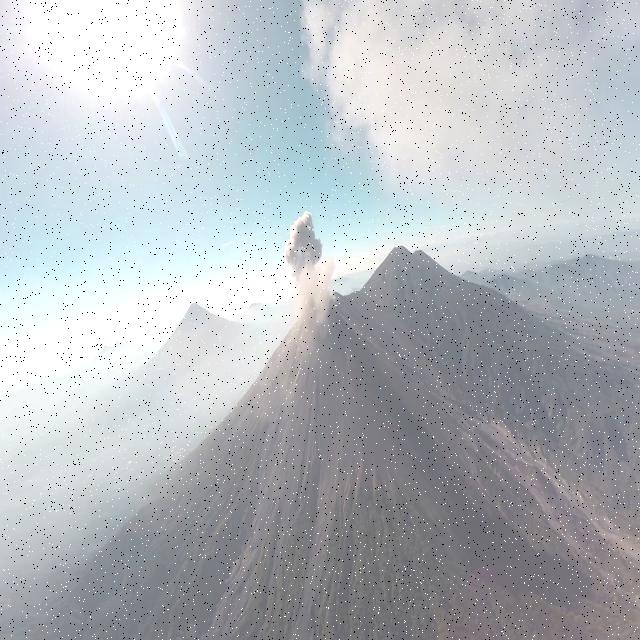Plume: (311, 0, 638, 211), (280, 206, 322, 296)
Summit: (250, 287, 376, 478)
